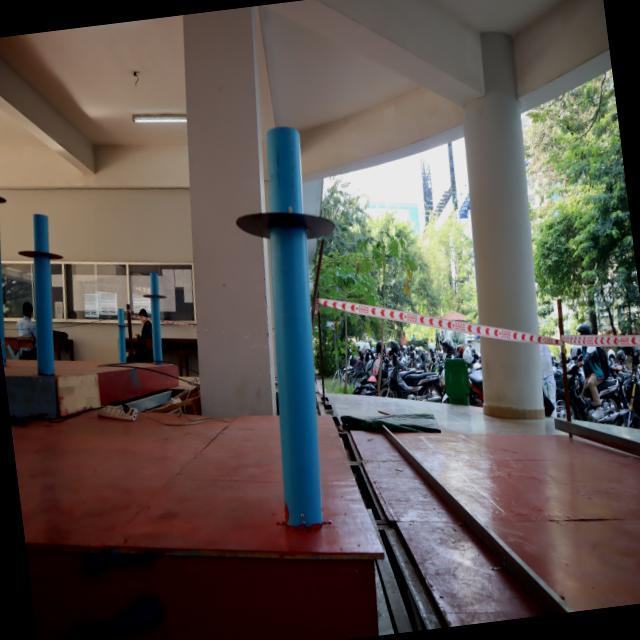pole: (228, 115, 352, 342), (14, 205, 72, 306), (136, 257, 173, 329), (0, 146, 16, 227)
